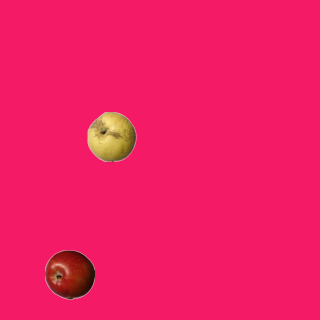Apple Braeburn: (44, 249, 94, 299)
Apple Golden 1: (86, 111, 136, 161)
